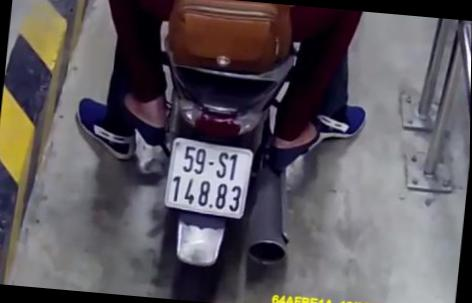LP: (162, 136, 256, 218)
